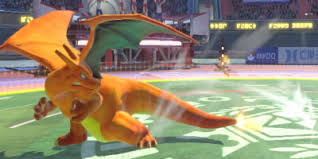charizard: (2, 8, 242, 150)
